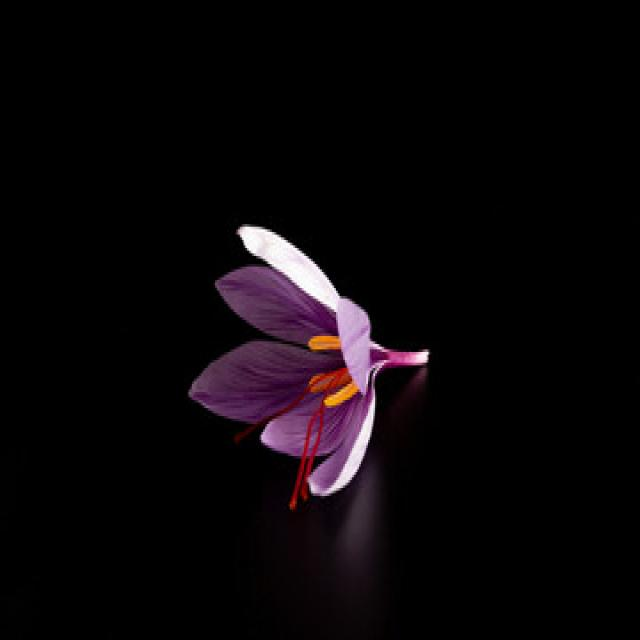saffron open: (190, 229, 429, 508)
